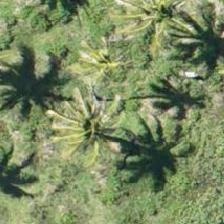coconut_tree: (52, 35, 142, 125), (40, 77, 130, 167), (117, 0, 207, 55)
